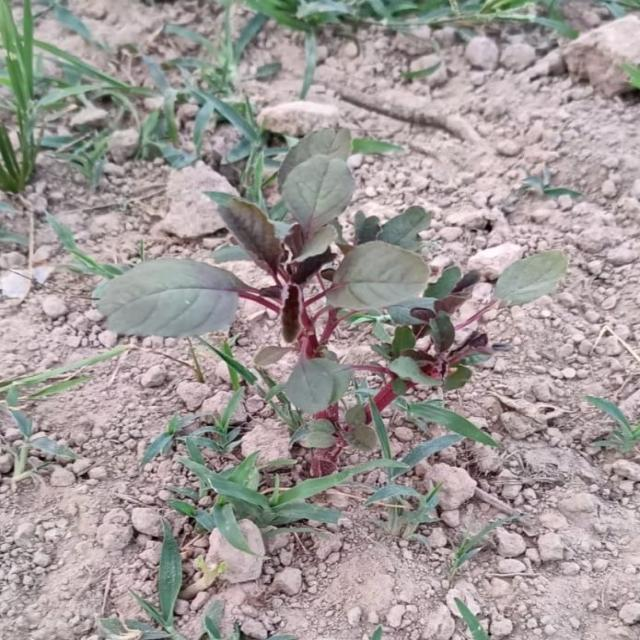plant: (79, 129, 568, 476)
